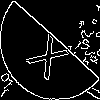X: (25, 25, 77, 82)
